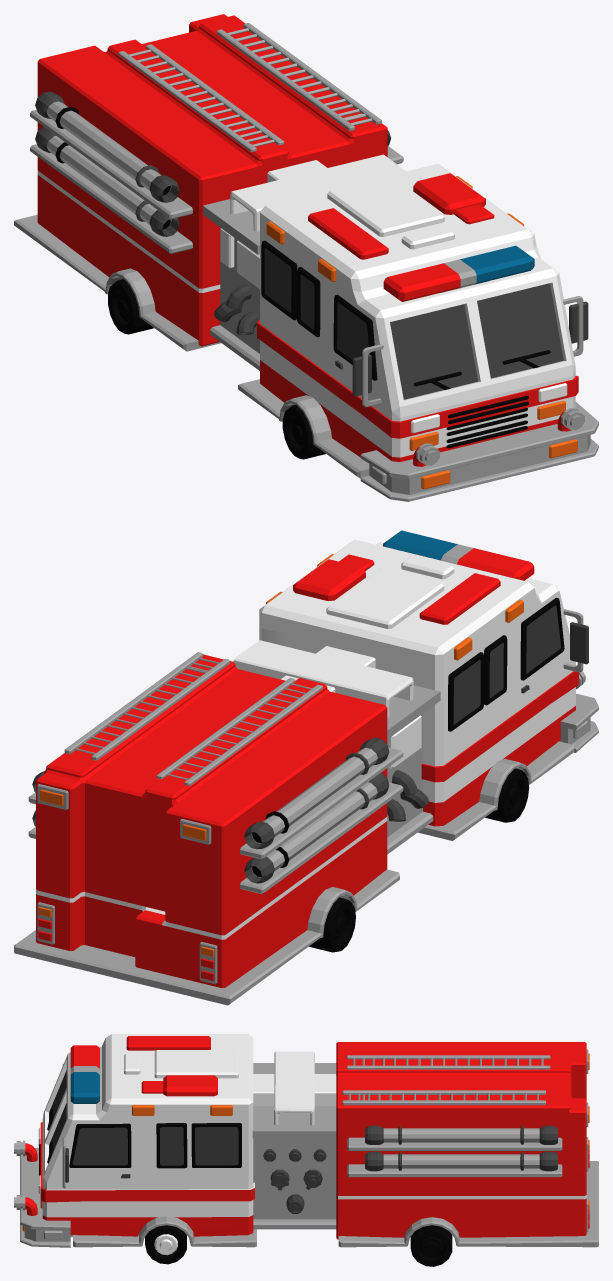
Rendered from FireTruck_LatestVersion.fbx.
The picture shows the model from 3 angles, top to bottom: view 1: azimuth 30°, elevation 25°; view 2: azimuth 150°, elevation 25°; view 3: azimuth 270°, elevation 25°; orthographic projection. The views are drawn at different scales.
Visible parts, largest first — view 1: front1; view 2: front1; view 3: front1.
Part boxes in pixels (bbox=[...]): front1: bbox=[14, 14, 598, 501]; front1: bbox=[14, 530, 598, 1005]; front1: bbox=[14, 1034, 598, 1266].
Size of the model in its own units: 170 by 150 by 477.
